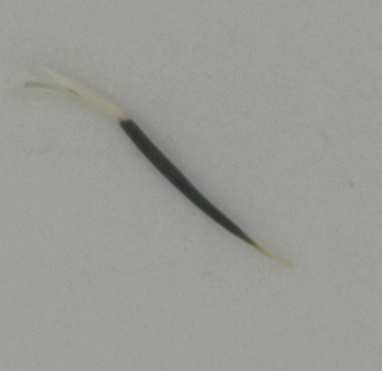เมล็ดดีเรียวยาว: (21, 62, 302, 270)
